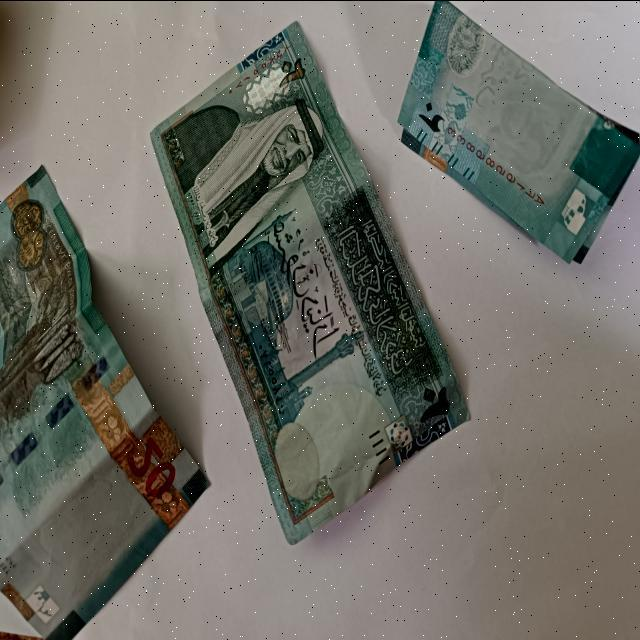20-dinar: (144, 16, 464, 550), (0, 161, 212, 640), (395, 0, 640, 272)
